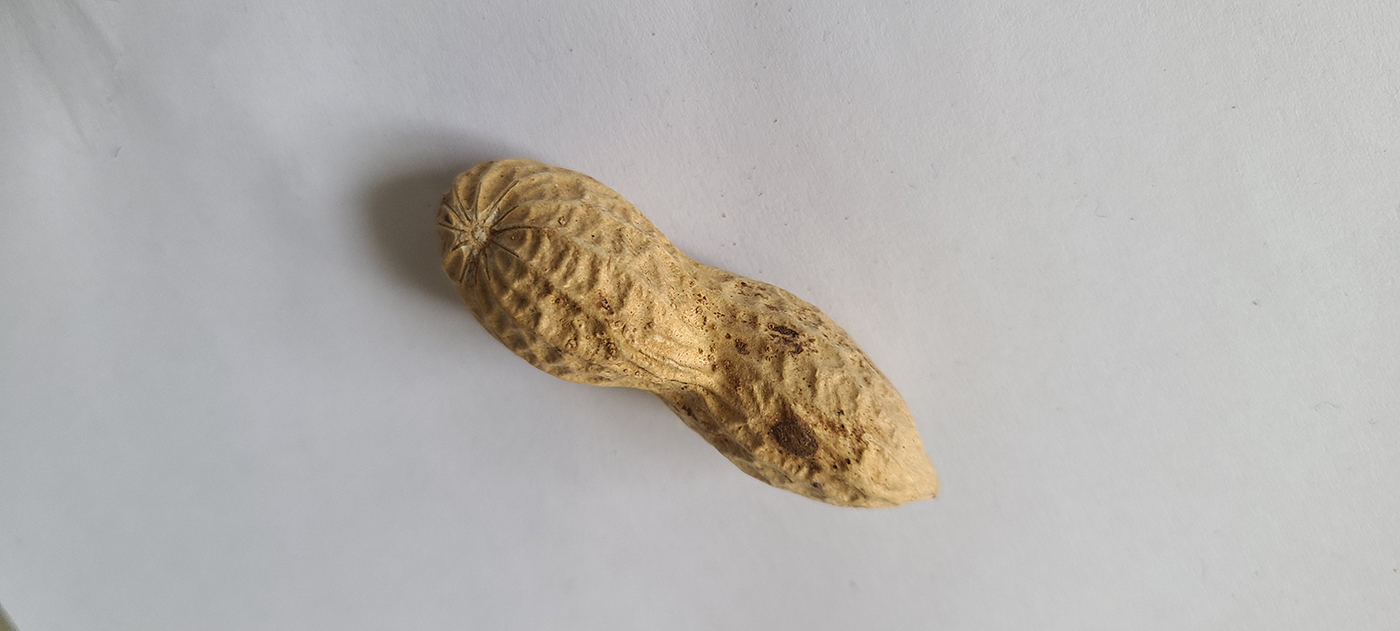h: (433, 154, 943, 511)
